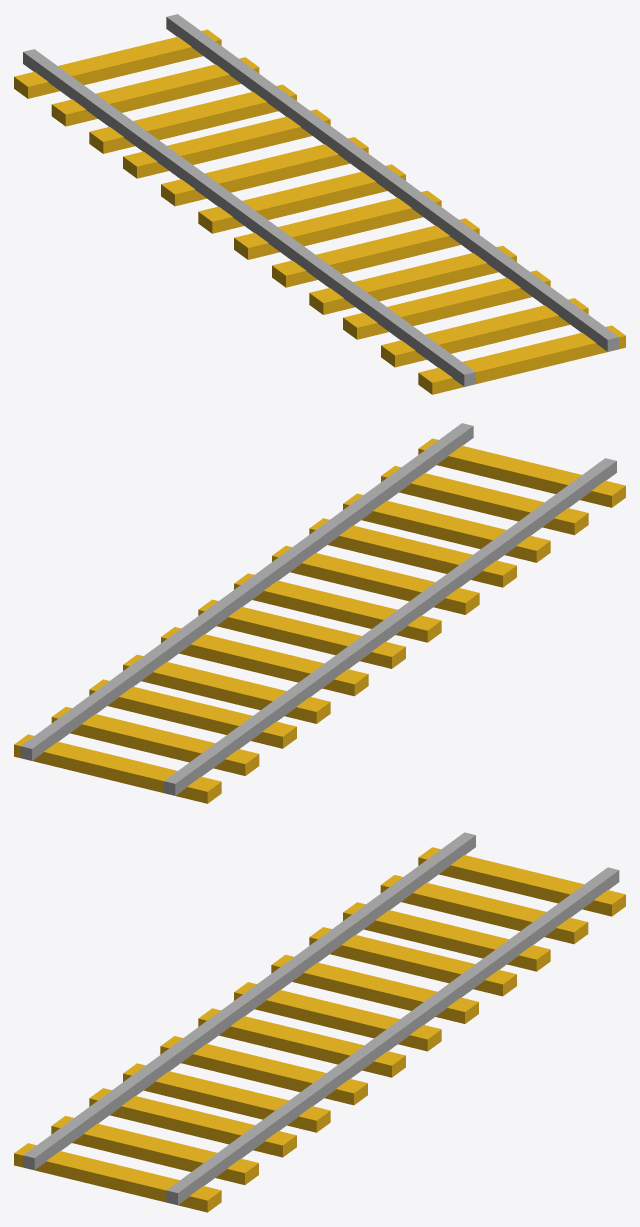
The model's file is RailRoad.fbx.
3 views of the same model, one above another, from view 1: azimuth 30°, elevation 25°; view 2: azimuth 150°, elevation 25°; view 3: azimuth 330°, elevation 25° (orthographic).
Visible parts, largest first — view 1: Cube.127; view 2: Cube.127; view 3: Cube.127.
Boxes of the visible parts, box(x1,y1,x2,y2) form: Cube.127: box(14, 14, 625, 394); Cube.127: box(14, 423, 625, 803); Cube.127: box(14, 832, 625, 1212).
Size of the model in its own units: 0.9966 by 0.115 by 3.93.
